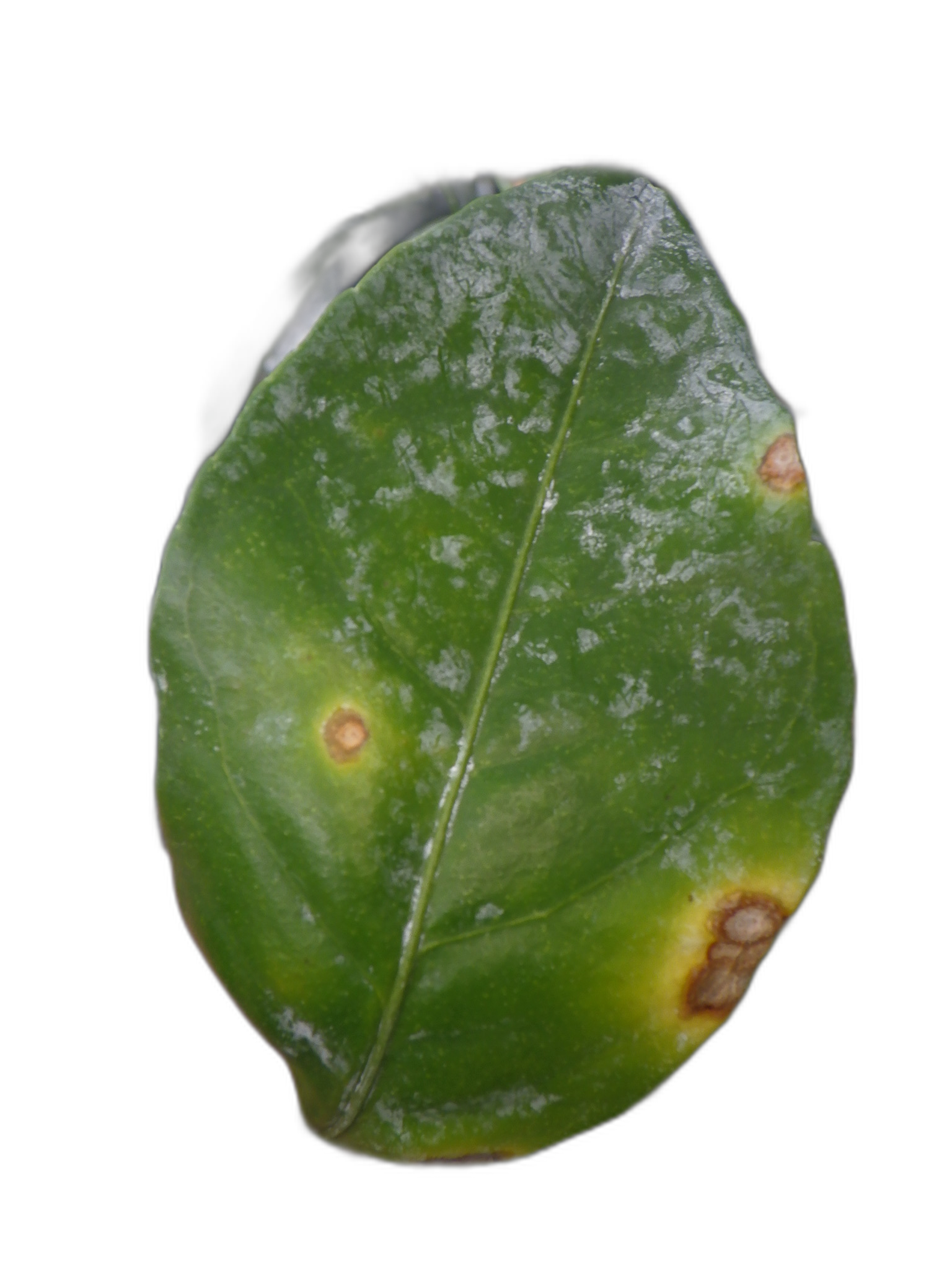Canker: (682, 890, 788, 1017), (322, 708, 371, 765), (759, 435, 804, 492)
